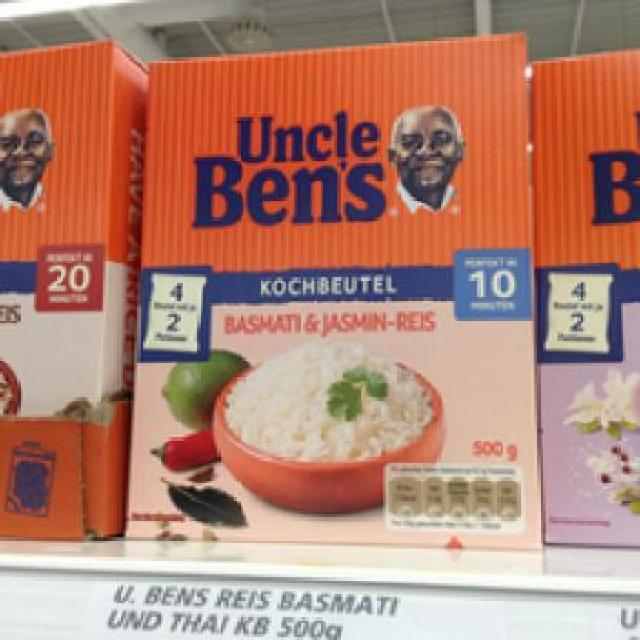Rice: (114, 28, 543, 546), (0, 37, 143, 414), (532, 43, 638, 543)
